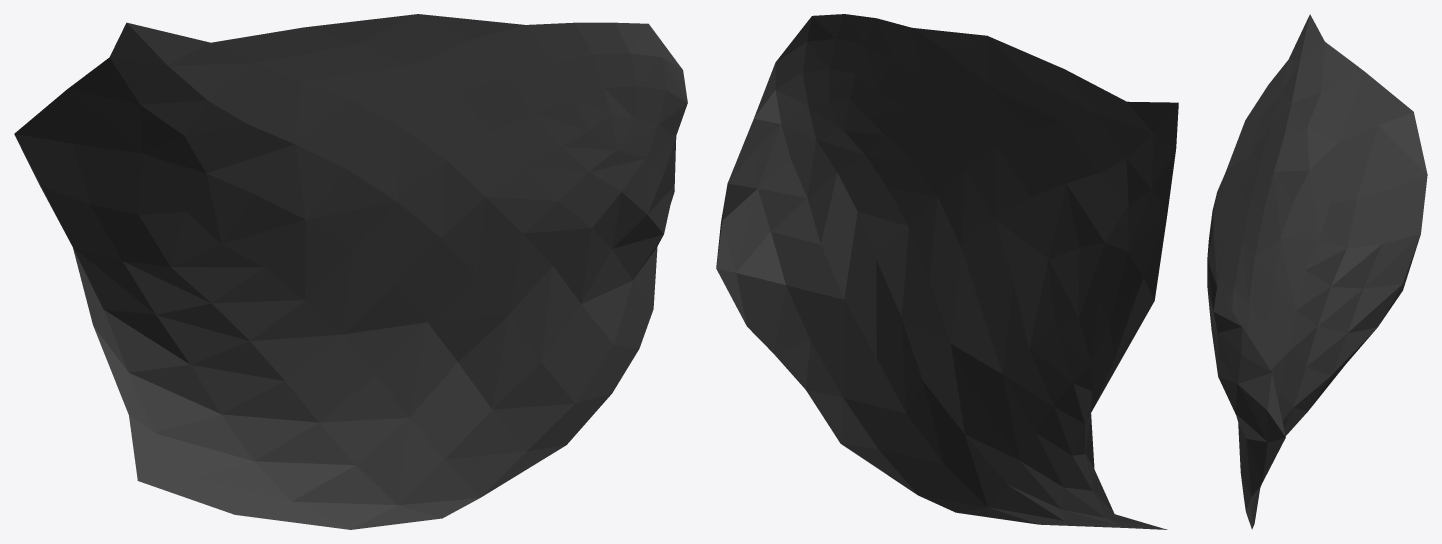
Rendered from ligament_caudomedial_meniscotibial_e.glb.
3 views of the same model, side by side, from view 1: azimuth 30°, elevation 25°; view 2: azimuth 150°, elevation 25°; view 3: azimuth 270°, elevation 25° (orthographic). The views are drawn at different scales.
Parts seen in each view (by area): view 1: ligament_caudomedial_meniscotibial_e; view 2: ligament_caudomedial_meniscotibial_e; view 3: ligament_caudomedial_meniscotibial_e.
Boxes of the visible parts, x1,y1,x2,y2 form: ligament_caudomedial_meniscotibial_e: [14, 14, 687, 529]; ligament_caudomedial_meniscotibial_e: [716, 14, 1178, 529]; ligament_caudomedial_meniscotibial_e: [1207, 14, 1427, 529].
Bounding box in the file's own units: 0.000995 × 0.000905 × 0.00045.
Materials: 1 (1 with a texture image).
